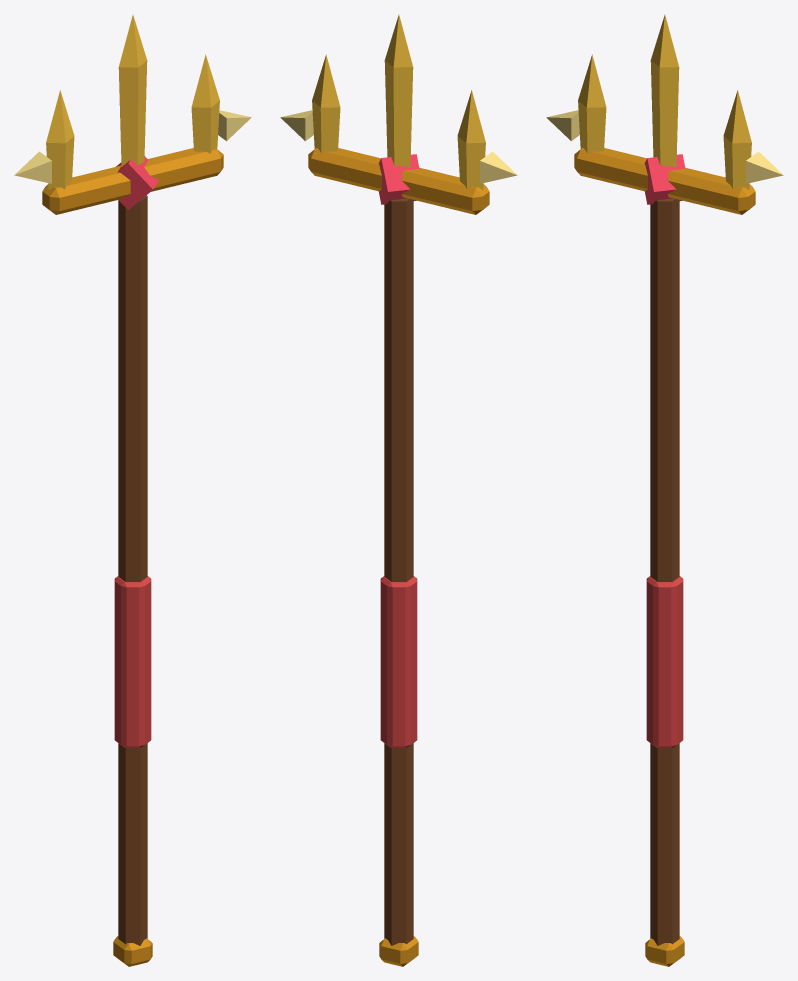
Rendered from GoldTrident.fbx.
3 views of the same model, side by side, from view 1: azimuth 30°, elevation 25°; view 2: azimuth 150°, elevation 25°; view 3: azimuth 330°, elevation 25° (orthographic).
Parts seen in each view (by area): view 1: GoldTrident; view 2: GoldTrident; view 3: GoldTrident.
Part boxes in pixels (x1,y1,x2,y2): GoldTrident: [14, 15, 251, 966]; GoldTrident: [280, 15, 517, 966]; GoldTrident: [546, 15, 783, 966].
Bounding box in the file's own units: 1.5 × 5.72 × 0.3414.
Materials: 1 (1 with a texture image).
